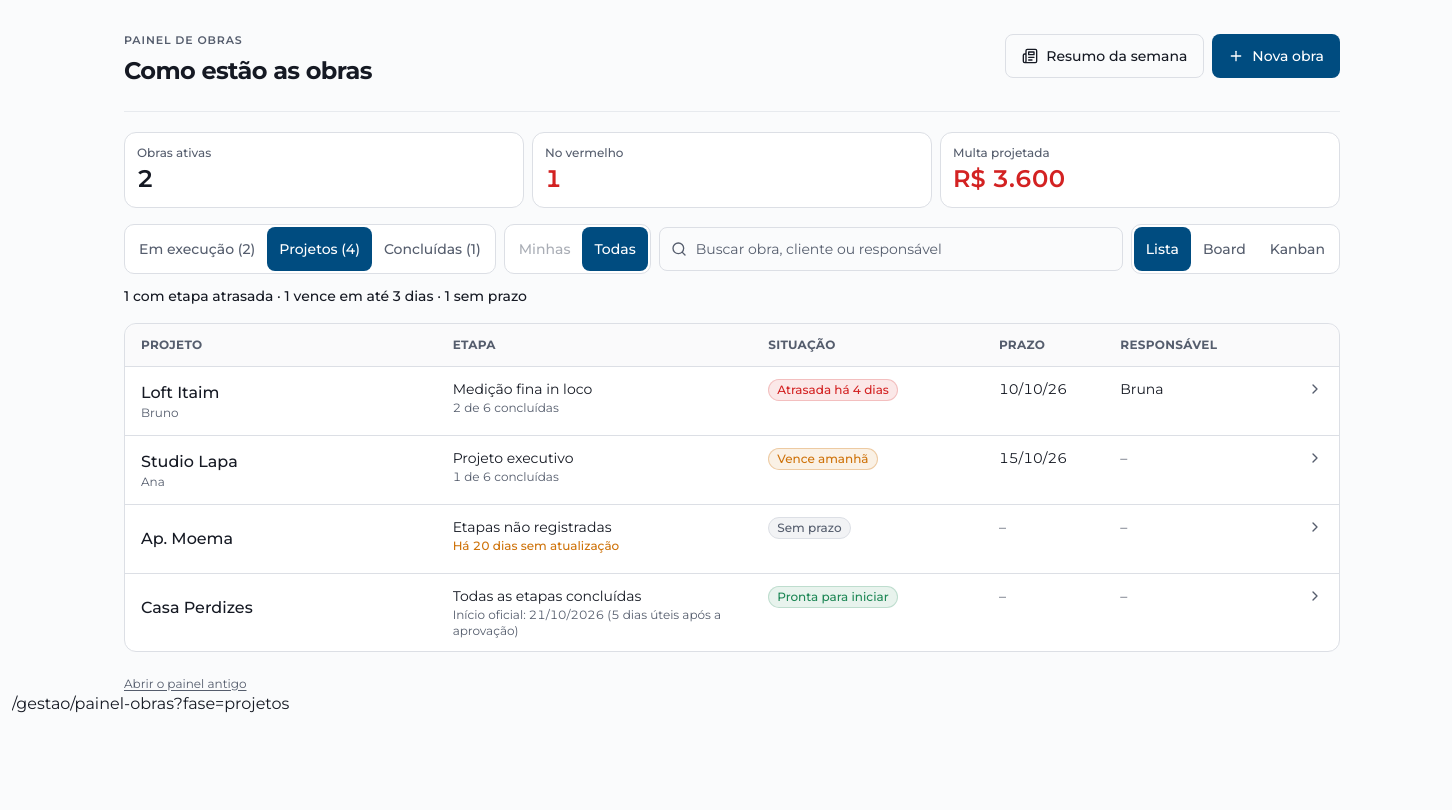
Scenario: Painel de Obras reformulado › escritório › Projetos: fase de projeto › resumo acima da lista, que não muda com a busca
Expected: the text "1 com etapa atrasada · 1 vence em até 3 dias · 1 sem prazo" is shown, [124,286,527,306]
Type "medicao" into the search field at (891, 248), box [659,226,1123,270]
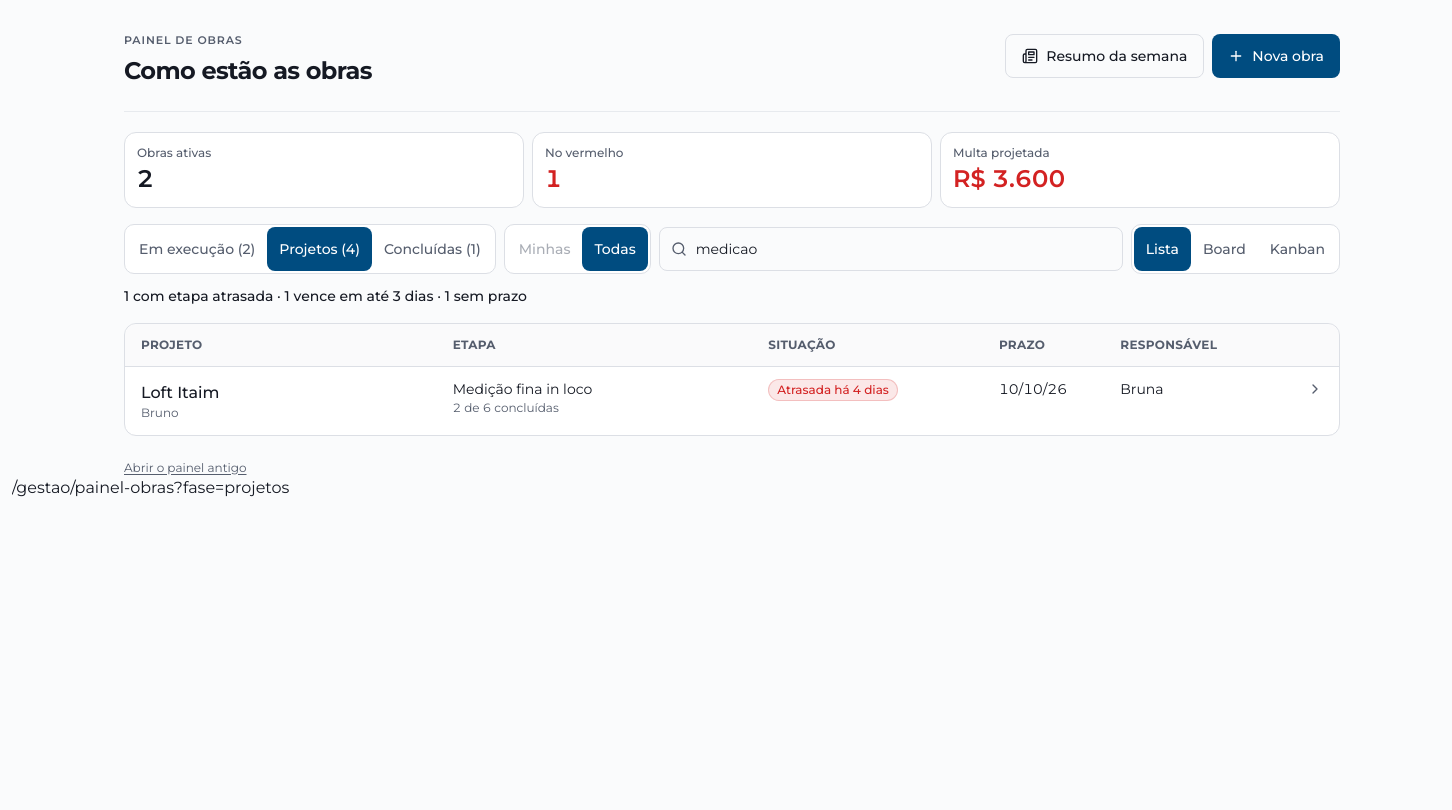
Expected: the number of rows is 2, [125,324,1339,366]; [125,366,1339,434]
Expected: the row "Loft Itaim" is shown, [125,366,1339,434]
Click the radio button labelled "Em execução (2)" at (197, 248), box [127,226,267,270]
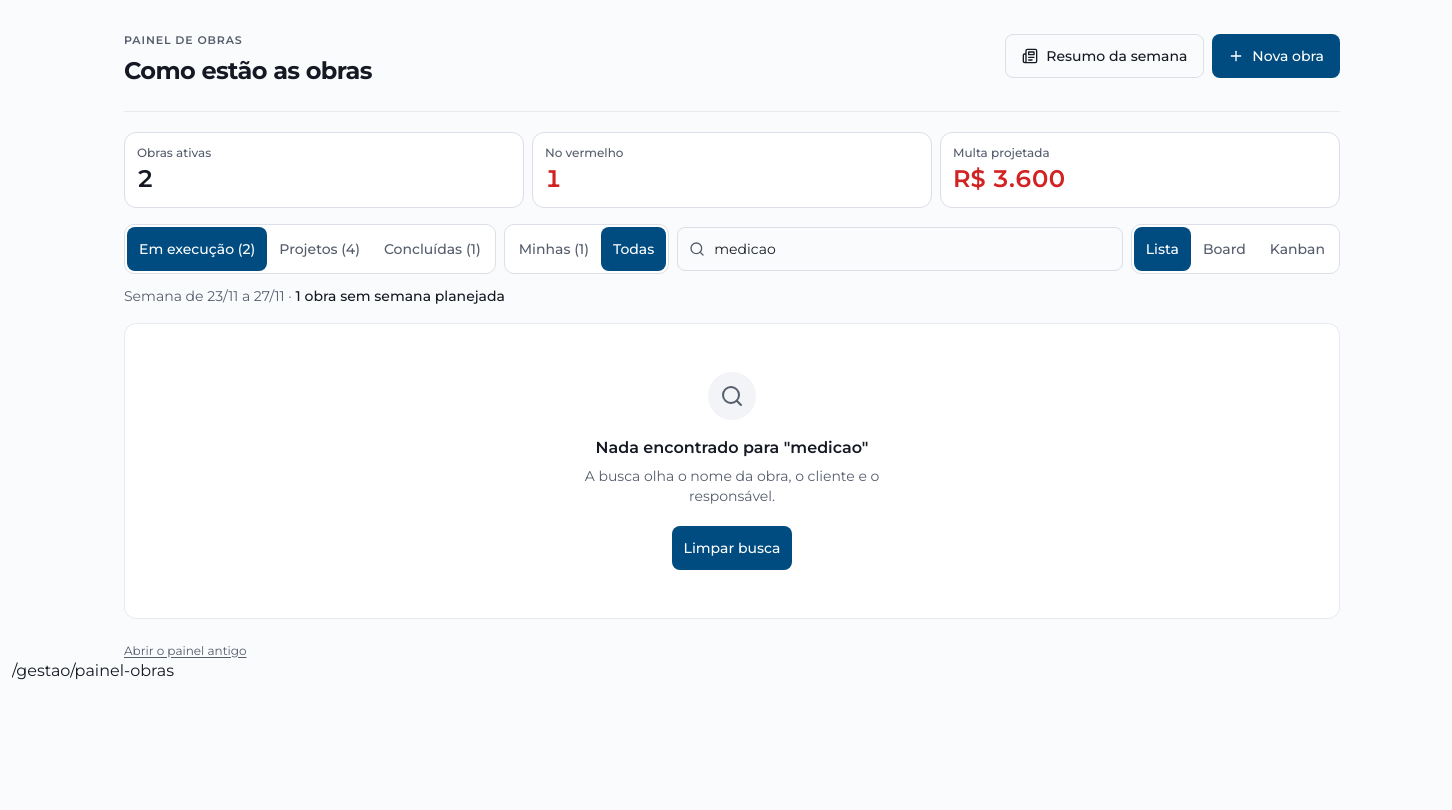
Now the text "1 com etapa atrasada · 1 vence em até 3 dias · 1 sem prazo" is gone
